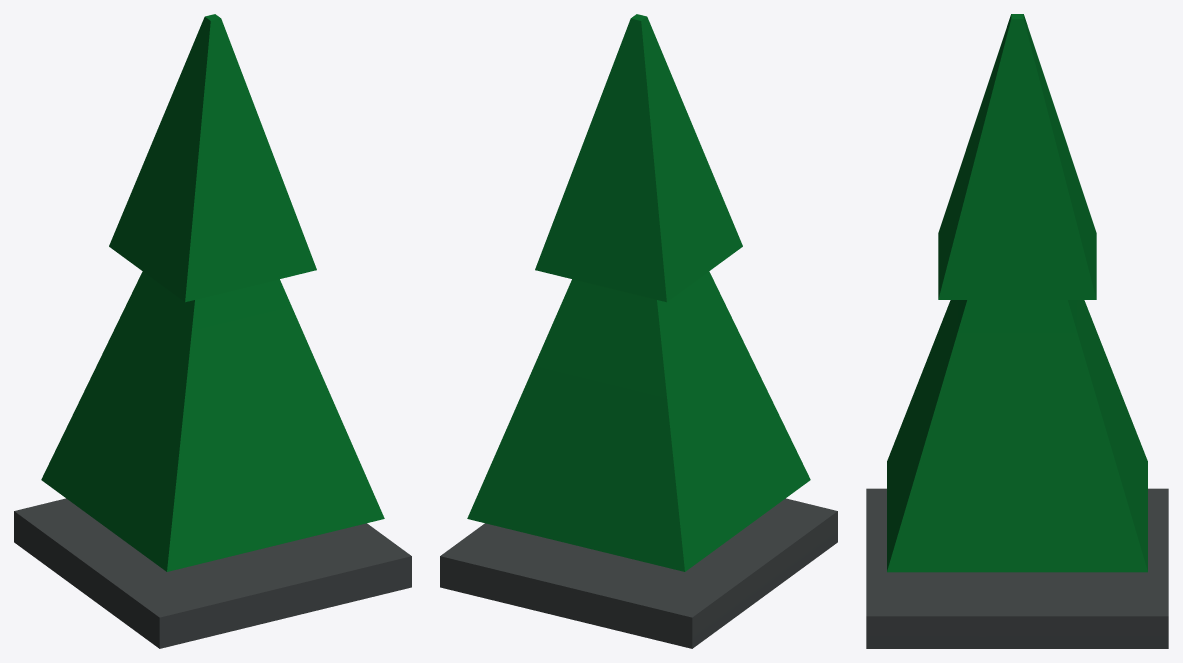
The model's file is spruce border 2.fbx.
3 views of the same model, side by side, from view 1: azimuth 30°, elevation 25°; view 2: azimuth 150°, elevation 25°; view 3: azimuth 270°, elevation 25° (orthographic). The views are drawn at different scales.
Visible parts, largest first — view 1: spruce border 2; view 2: spruce border 2; view 3: spruce border 2.
Boxes of the visible parts, x1,y1,x2,y2 form: spruce border 2: (14, 14, 411, 648); spruce border 2: (440, 14, 837, 648); spruce border 2: (866, 14, 1168, 648).
Bounding box in the file's own units: 169 × 350 × 169.
1 material, 1 textured.
